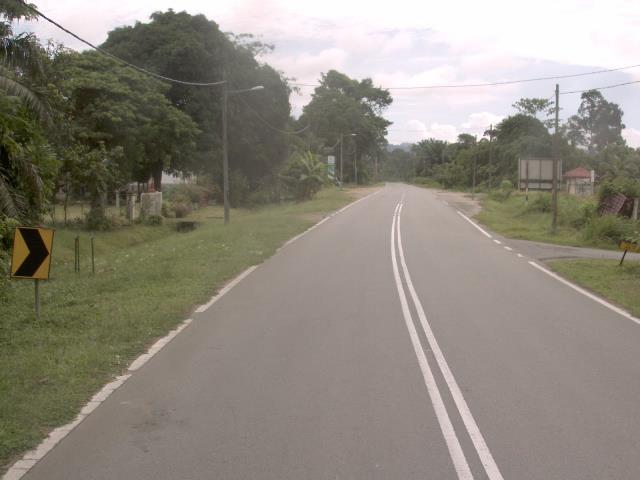traffic_sign: (2, 216, 61, 287)
